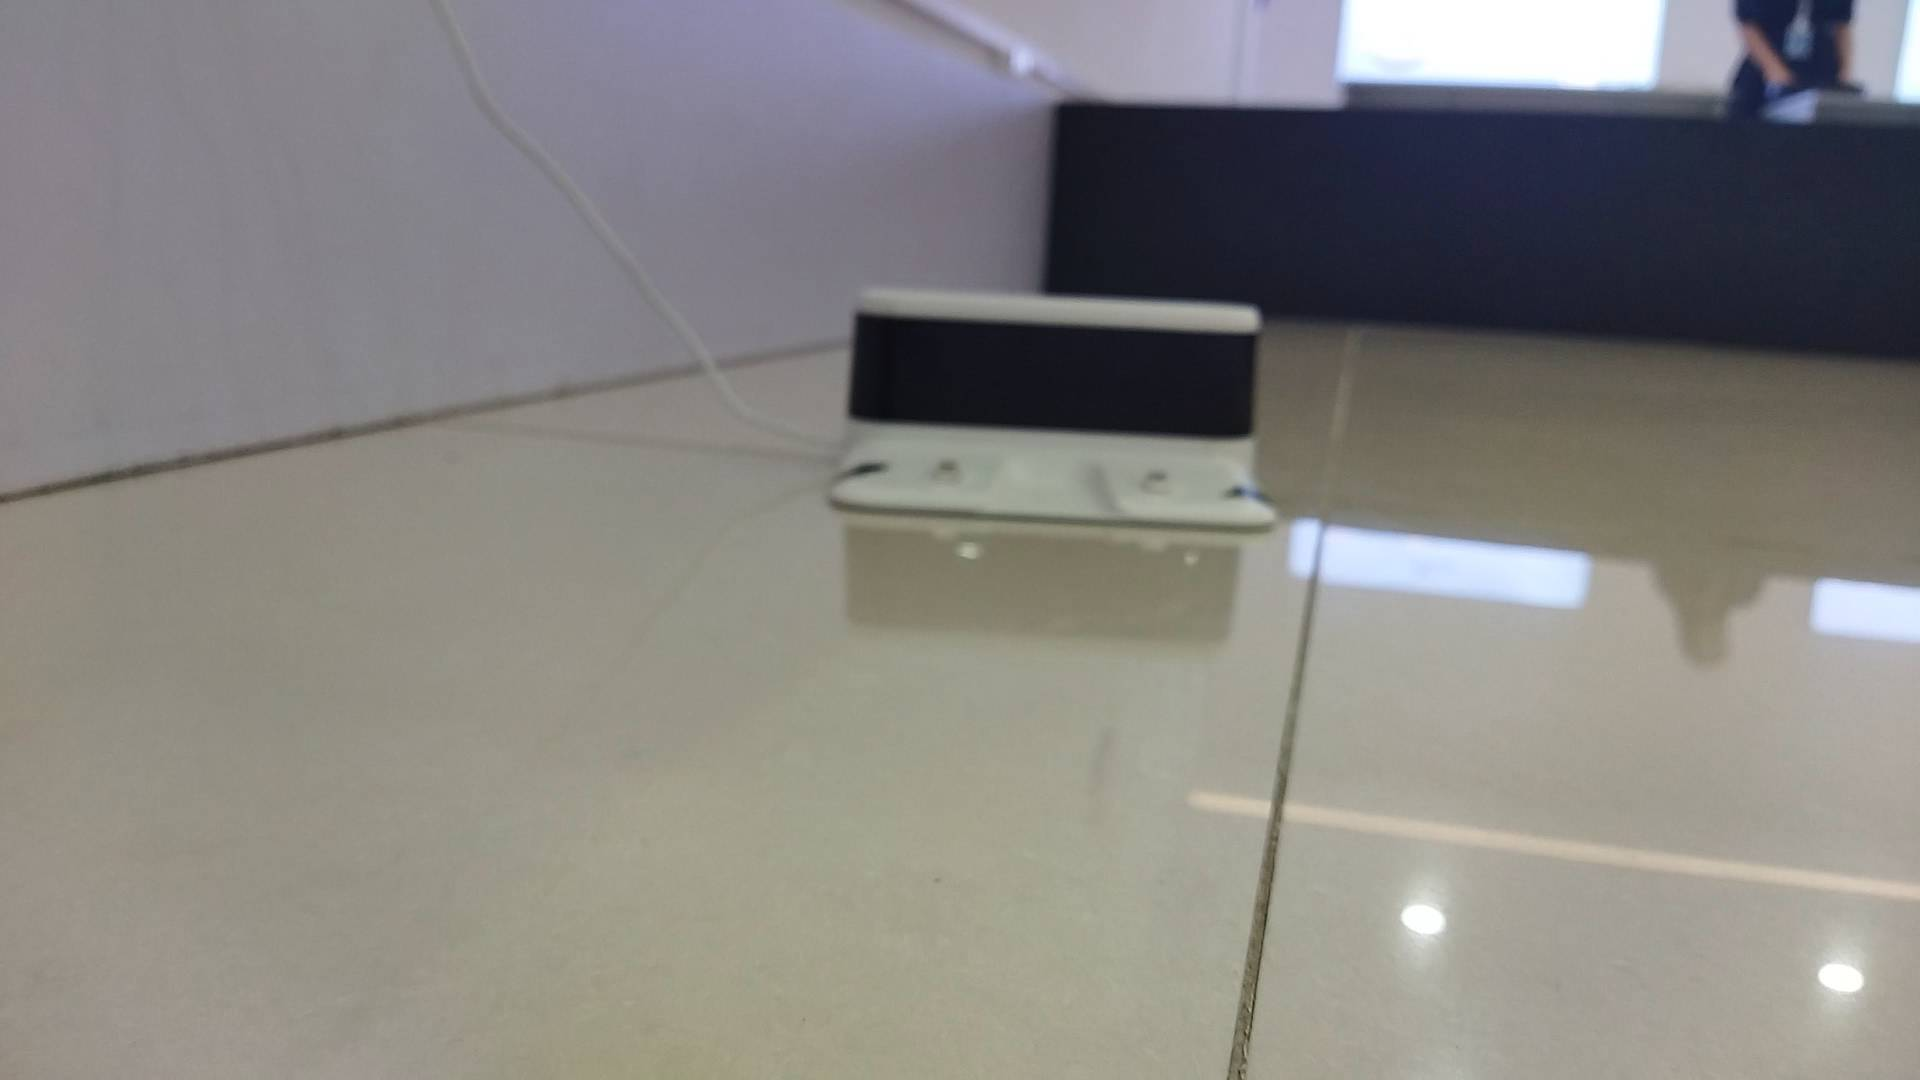recharge seat: (829, 287, 1284, 531)
